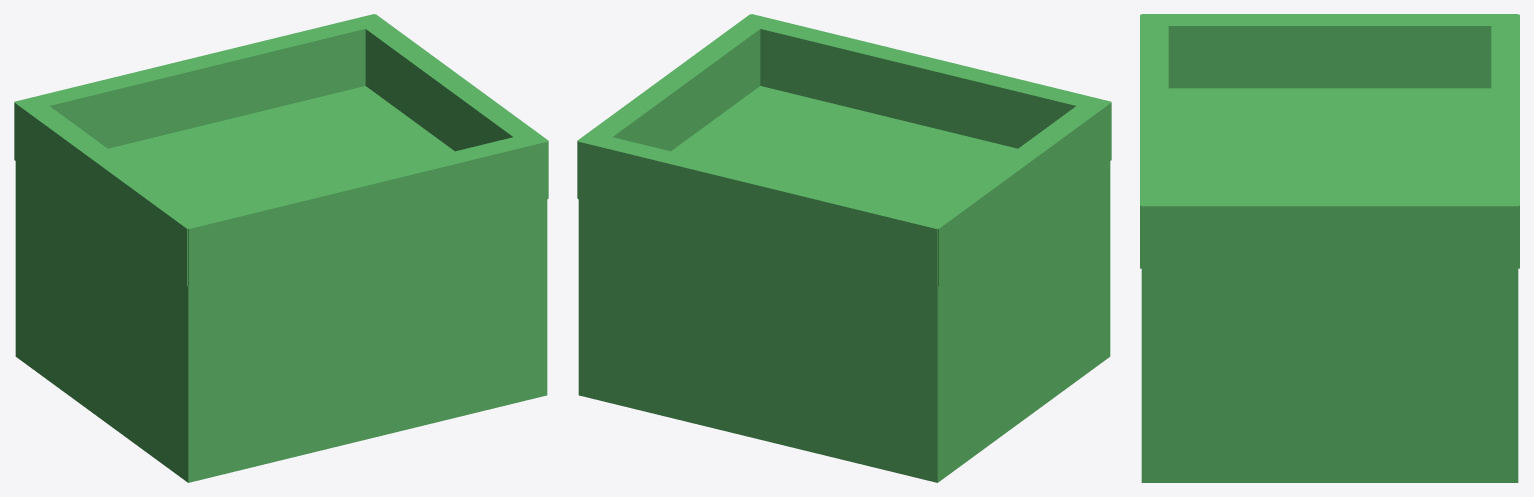
The model's file is greek_house_walkable_roof_collision.glb.
3 renders of one model, left to right at view 1: azimuth 30°, elevation 25°; view 2: azimuth 150°, elevation 25°; view 3: azimuth 270°, elevation 25°, orthographic. The views are drawn at different scales.
Visible parts, largest first — view 1: greek_house_walkable_roof-col-house, greek_house_walkable_roof-col-parapet-0, greek_house_walkable_roof-col-parapet-1, greek_house_walkable_roof-col-parapet-2, greek_house_walkable_roof-col-parapet-3; view 2: greek_house_walkable_roof-col-house, greek_house_walkable_roof-col-parapet-1, greek_house_walkable_roof-col-parapet-0, greek_house_walkable_roof-col-parapet-2, greek_house_walkable_roof-col-parapet-3; view 3: greek_house_walkable_roof-col-house, greek_house_walkable_roof-col-parapet-3, greek_house_walkable_roof-col-parapet-2, greek_house_walkable_roof-col-parapet-0, greek_house_walkable_roof-col-parapet-1.
Boxes of the visible parts, left/top/right/bottom form: greek_house_walkable_roof-col-house: left=15, top=86, right=547, bottom=482; greek_house_walkable_roof-col-parapet-0: left=176, top=137, right=548, bottom=286; greek_house_walkable_roof-col-parapet-1: left=15, top=14, right=386, bottom=148; greek_house_walkable_roof-col-parapet-2: left=14, top=97, right=209, bottom=286; greek_house_walkable_roof-col-parapet-3: left=356, top=14, right=548, bottom=197; greek_house_walkable_roof-col-house: left=578, top=86, right=1110, bottom=482; greek_house_walkable_roof-col-parapet-1: left=577, top=137, right=949, bottom=286; greek_house_walkable_roof-col-parapet-0: left=739, top=14, right=1110, bottom=148; greek_house_walkable_roof-col-parapet-2: left=916, top=97, right=1111, bottom=286; greek_house_walkable_roof-col-parapet-3: left=577, top=14, right=767, bottom=197; greek_house_walkable_roof-col-house: left=1141, top=88, right=1518, bottom=482; greek_house_walkable_roof-col-parapet-3: left=1141, top=194, right=1518, bottom=269; greek_house_walkable_roof-col-parapet-2: left=1141, top=14, right=1518, bottom=88; greek_house_walkable_roof-col-parapet-0: left=1140, top=14, right=1168, bottom=268; greek_house_walkable_roof-col-parapet-1: left=1491, top=14, right=1519, bottom=268.
Bounding box in the file's own units: 6.04 × 4.06 × 5.04.
